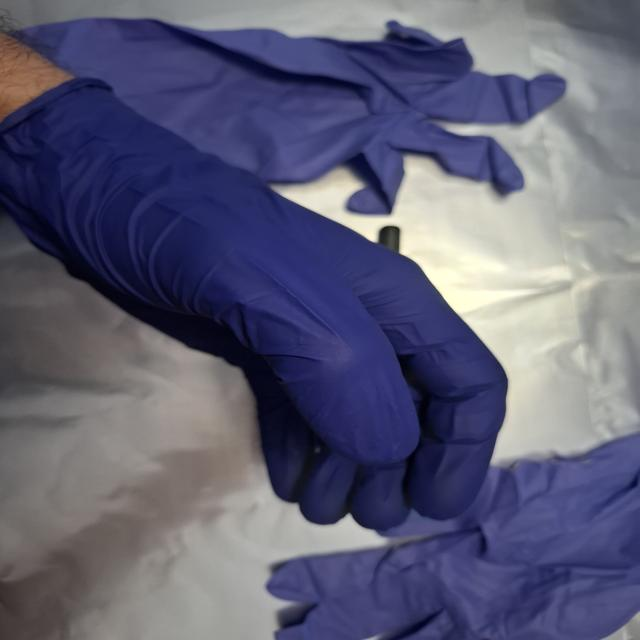glove_on: (0, 73, 510, 528)
